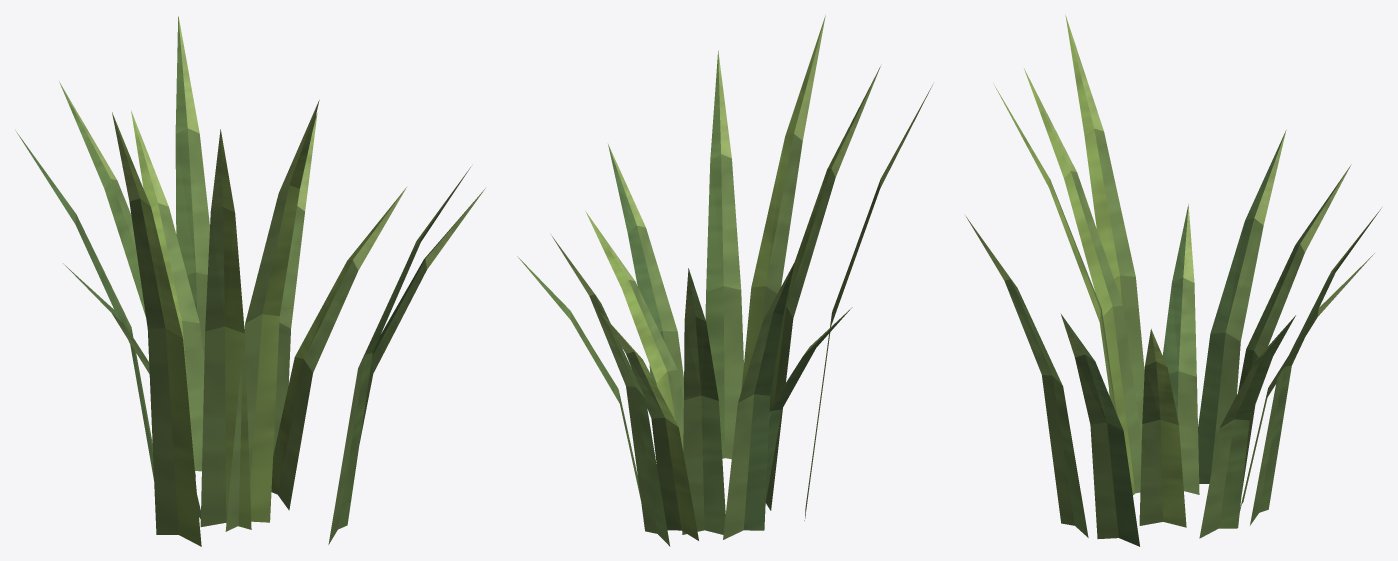
File: grass_clump_tall_01.fbx
The picture shows the model from 3 angles, left to right: view 1: azimuth 30°, elevation 25°; view 2: azimuth 150°, elevation 25°; view 3: azimuth 270°, elevation 25°; orthographic projection. The views are drawn at different scales.
Visible parts, largest first — view 1: grass_clump_tall_01; view 2: grass_clump_tall_01; view 3: grass_clump_tall_01.
Boxes of the visible parts, box(x1,y1,x2,y2) form: grass_clump_tall_01: box(15, 16, 485, 546); grass_clump_tall_01: box(517, 15, 932, 546); grass_clump_tall_01: box(965, 14, 1381, 546).
Size of the model in its own units: 65.52 by 82 by 74.
1 material, 1 textured.
